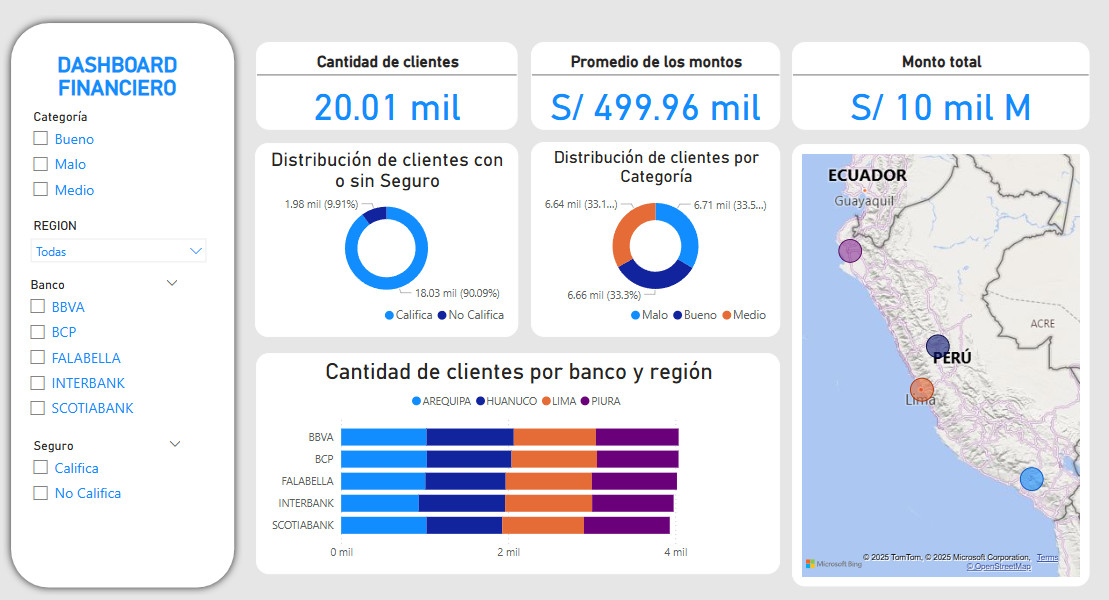

What the dashboard file says about the page in this screenshot:
{"tool":"powerbi","page":{"name":"Página 2","canvas":[1280,720],"ordinal":0},"visuals":[{"type":"shape","box":[12.2,47.5,272.5,661.4],"z":0},{"type":"textbox","box":[30.6,85.7,223.5,64.3],"z":1000},{"type":"slicer","fields":{"Values":["Personas.Banco"]},"box":[30.6,341.4,192.9,183.7],"z":2000},{"type":"slicer","fields":{"Values":["Personas.Seguro"]},"box":[33.7,525.2,192.9,96.5],"z":3000},{"type":"slicer","fields":{"Values":["Personas.REGION"]},"box":[33.7,274.1,220.5,67.4],"z":4000},{"type":"slicer","fields":{"Values":["Personas.Categoria nombre"]},"box":[33.7,150,220.5,124],"z":5000},{"type":"card","title":"Cantidad de clientes","fields":{"Values":["Personas.DNI"]},"box":[300.8,78.6,298.5,100.3],"z":6000},{"type":"card","title":"Monto total","fields":{"Values":["Personas.monto"]},"box":[911.4,78.6,339.5,100.3],"z":7000},{"type":"card","title":"Promedio de los montos","fields":{"Values":["Personas.monto"]},"box":[614.1,78.6,283.7,100.3],"z":8000},{"type":"map","fields":{"Category":["Personas.REGION"],"Size":["Personas.DNI"]},"box":[911.4,194.8,339.5,503.5],"z":9000},{"type":"barChart","title":"Cantidad de clientes por banco y región","fields":{"Category":["Personas.Banco"],"Y":["Personas.DNI"],"Series":["Personas.REGION"]},"box":[300.8,432.9,597,251.8],"z":10000},{"type":"donutChart","title":"Distribución de clientes con o sin Seguro","fields":{"Category":["Personas.Seguro"],"Y":["Personas.Banco"]},"box":[299.6,193.7,299.6,221],"z":11000},{"type":"donutChart","title":"Distribución de clientes por Categoría","fields":{"Category":["Personas.Categoria nombre"],"Y":["Personas.Nombres"]},"box":[614.1,192.5,283.7,222.2],"z":12000}]}

Visuals, with their boxes on the page's 1280x720 design canvas (x1, y1, x2, y2). These are canvas units, not pixel positions in the 1109x600 screenshot, which may show the page scaled, cropped or inside an application window:
shape: [left=12, top=48, right=285, bottom=709]
textbox: [left=31, top=86, right=254, bottom=150]
slicer - Personas.Banco: [left=31, top=341, right=224, bottom=525]
slicer - Personas.Seguro: [left=34, top=525, right=227, bottom=622]
slicer - Personas.REGION: [left=34, top=274, right=254, bottom=342]
slicer - Personas.Categoria nombre: [left=34, top=150, right=254, bottom=274]
"Cantidad de clientes" card: [left=301, top=79, right=599, bottom=179]
"Monto total" card: [left=911, top=79, right=1251, bottom=179]
"Promedio de los montos" card: [left=614, top=79, right=898, bottom=179]
map - Personas.REGION x Personas.DNI: [left=911, top=195, right=1251, bottom=698]
"Cantidad de clientes por banco y región" barChart: [left=301, top=433, right=898, bottom=685]
"Distribución de clientes con o sin Seguro" donutChart: [left=300, top=194, right=599, bottom=415]
"Distribución de clientes por Categoría" donutChart: [left=614, top=192, right=898, bottom=415]
